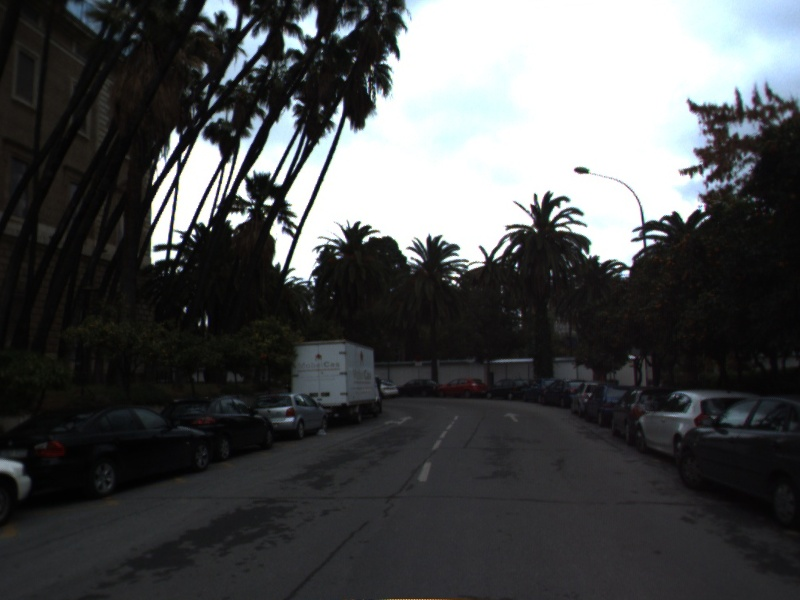STRAIGHT: (501, 410, 523, 424)
STRAIGHT_LEFT: (382, 414, 416, 427)
